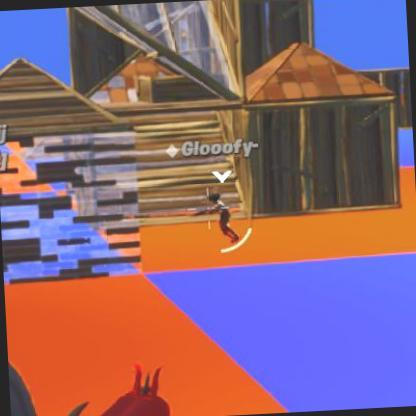person: (209, 183, 240, 244)
